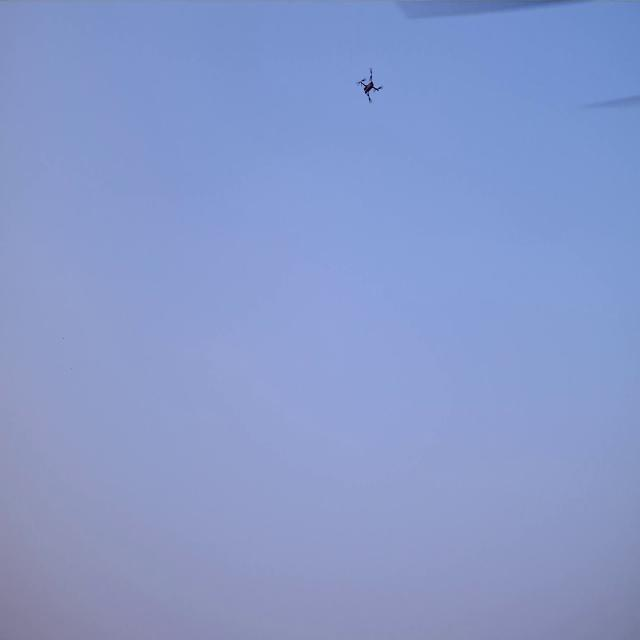UAV: (360, 71, 380, 101)
